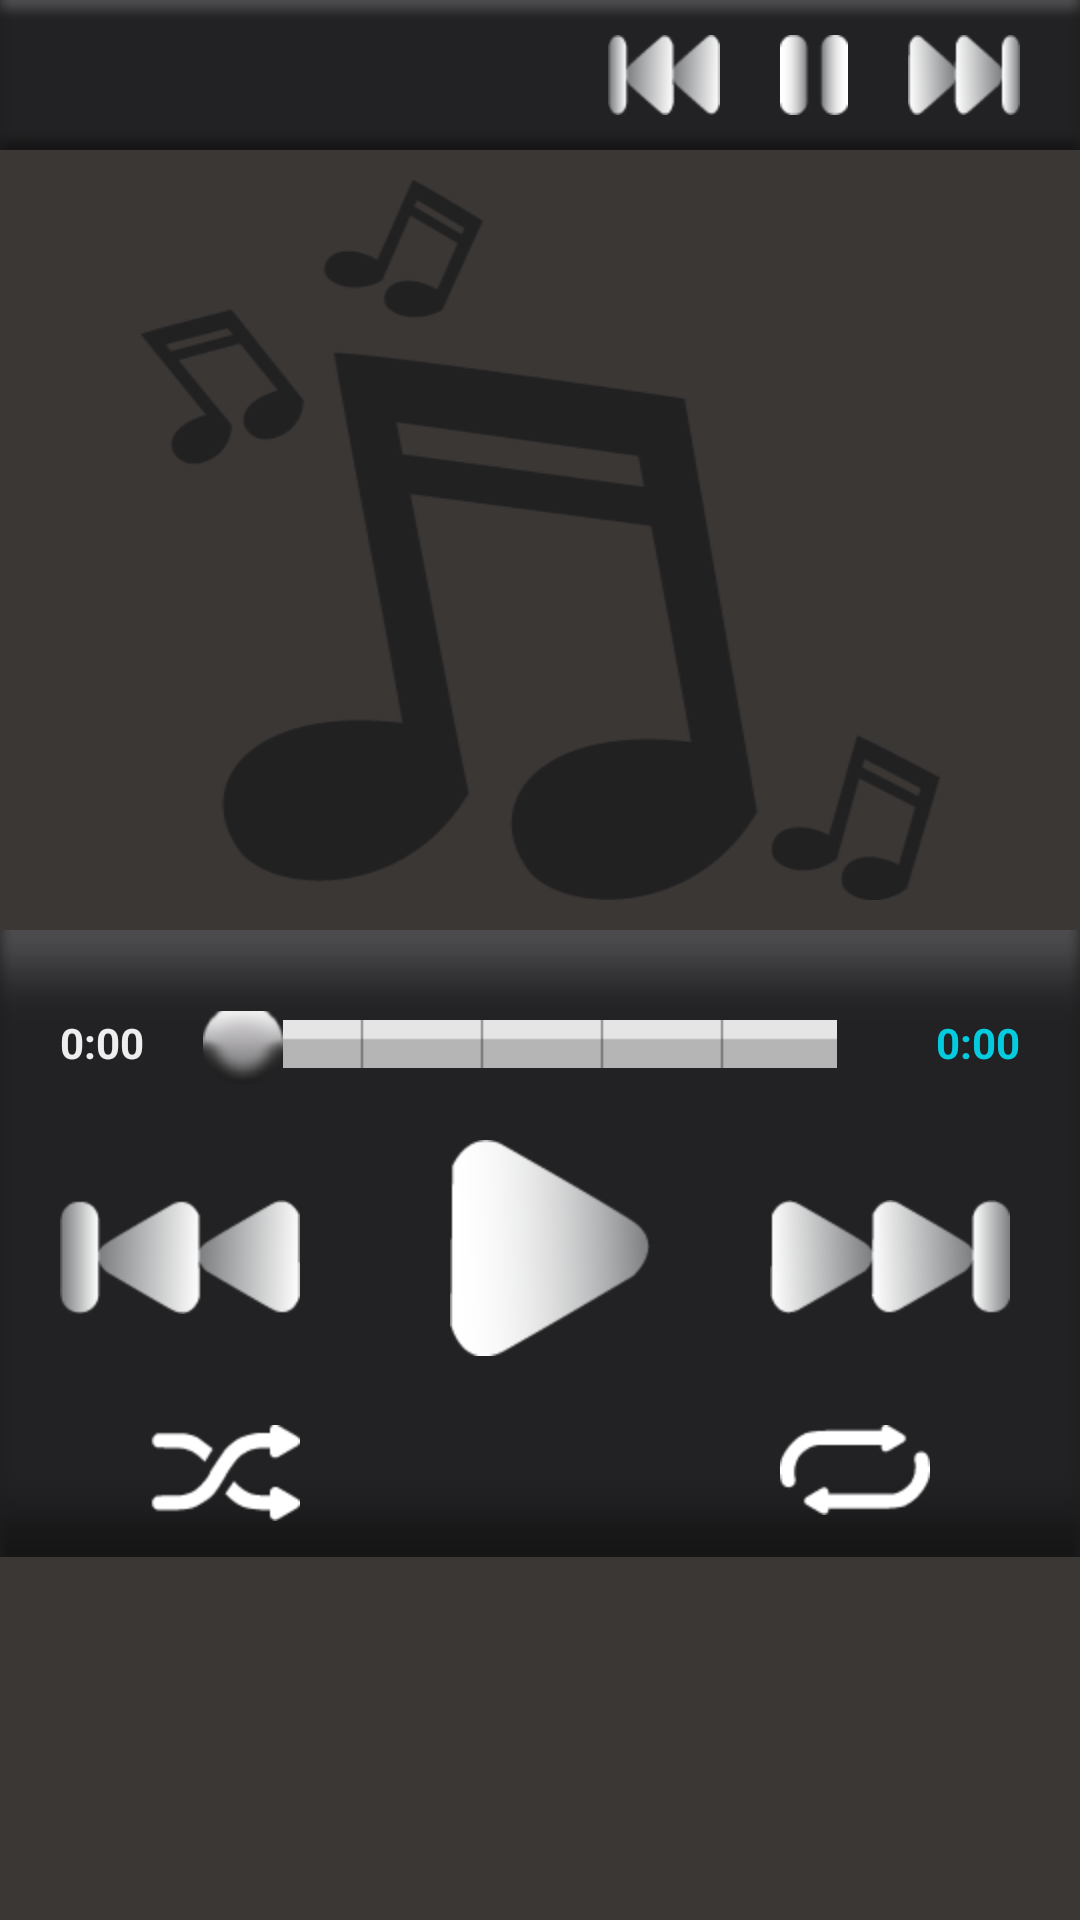

Icons on this 1080x1920 Android screen, each with its box as region(x1, y1, x2, y2):
next: region(770, 1200, 1010, 1314)
next mini: region(908, 35, 1020, 115)
pause mini: region(780, 35, 848, 115)
play: region(450, 1140, 649, 1356)
previous: region(60, 1200, 300, 1314)
previous mini: region(608, 35, 720, 115)
repeat none: region(780, 1425, 930, 1515)
shuffle off: region(151, 1425, 300, 1521)
